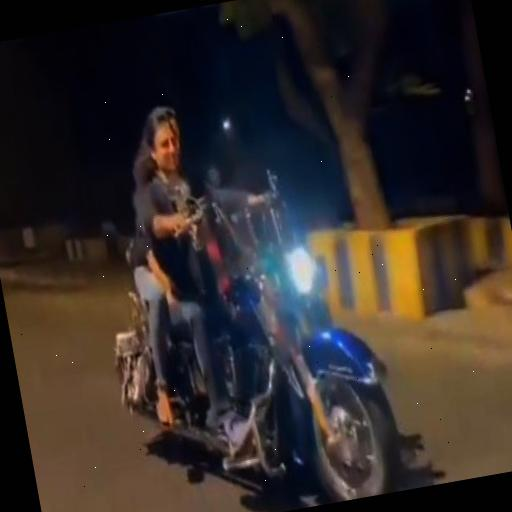no helmet: (120, 82, 348, 512)
